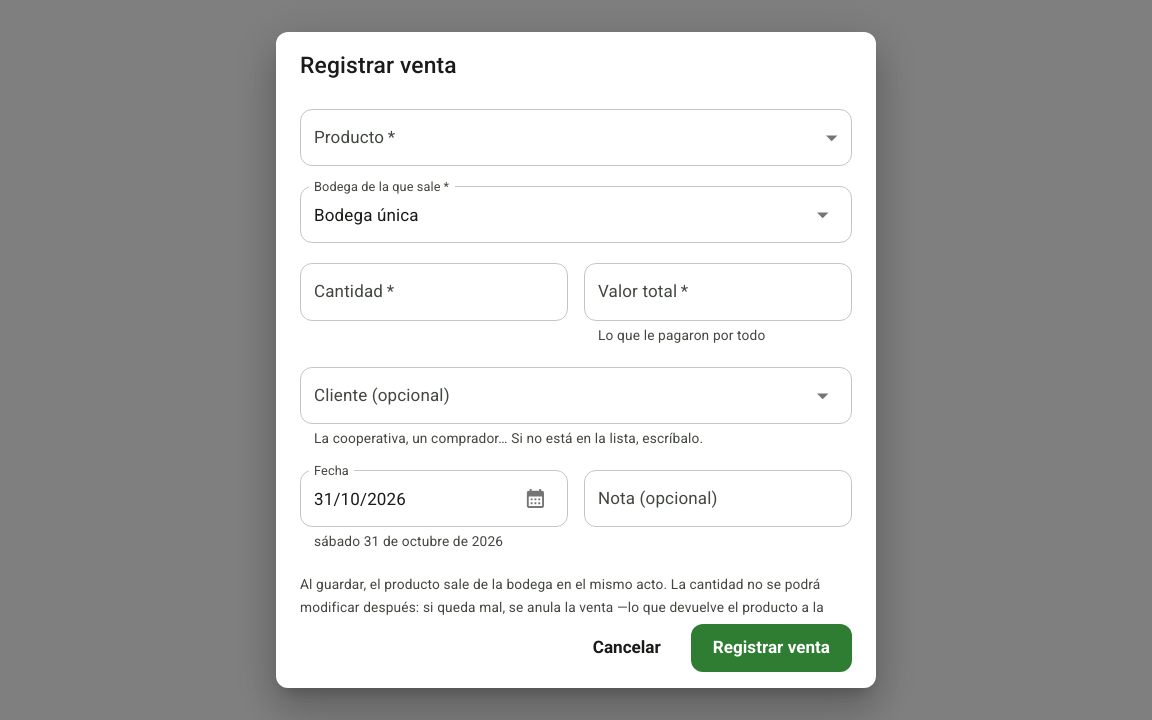
Test: SaleFormDialog, signed out, one warehouse, nothing on record › preselects the only warehouse and reads a missing stock line as zero
This screenshot has width=1152, height=720.
Expected: the dropdown showing "Bodega única" is shown, [309,195,787,234]
Click the dropdown named "Producto": coordinates (576, 137) [300,109,852,166]
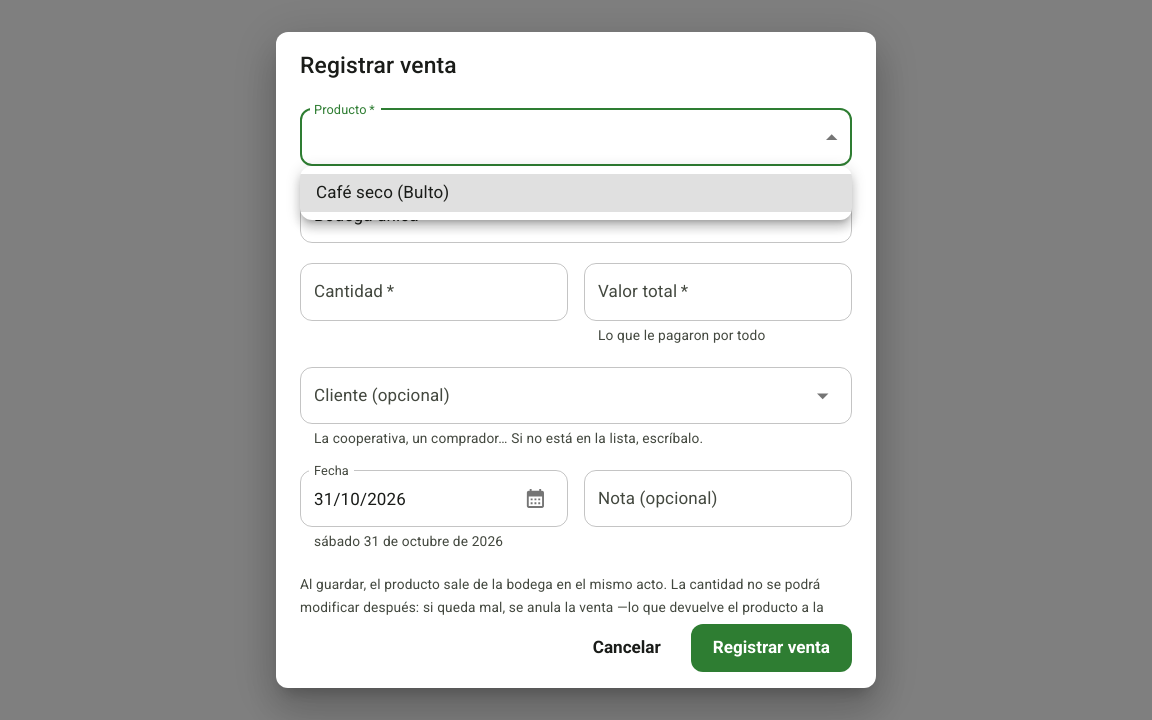
Click the option "Café seco (Bulto)": coordinates (354, 192) [300,174,852,212]
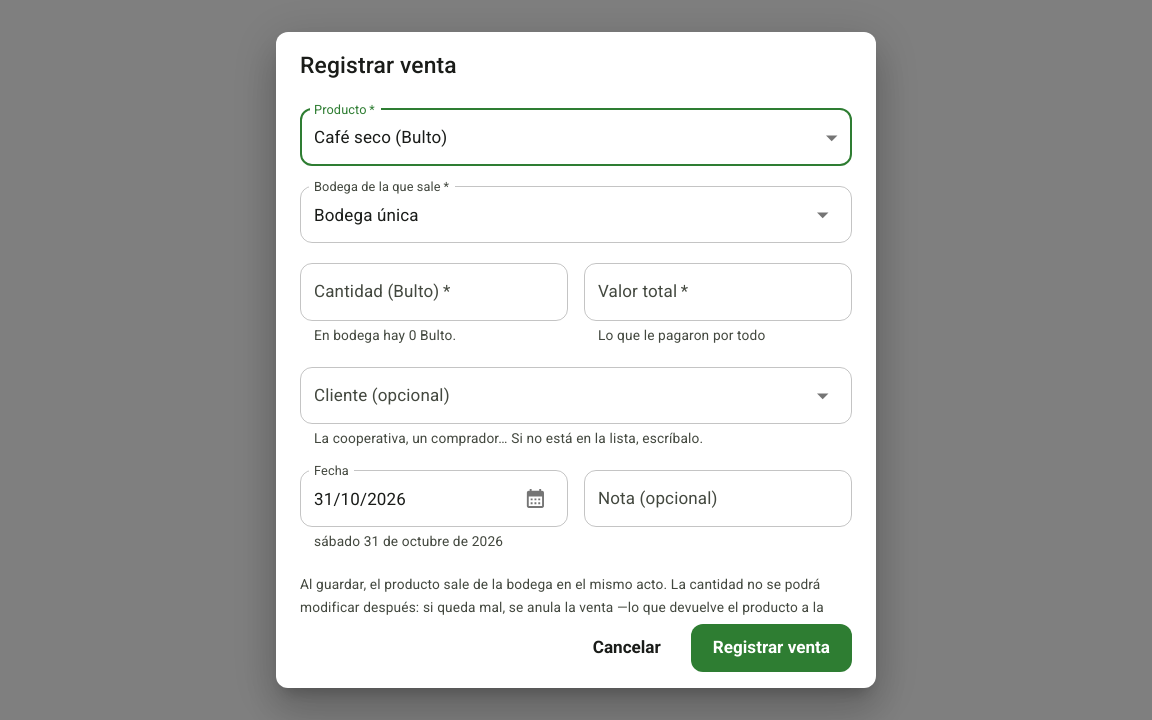
Expected: the text "En bodega hay 0 Bulto." is shown, [314,327,456,343]
In the field labelled "Cantidad (Bulto) *": coordinates (434, 292) [300,263,568,321], type "5"
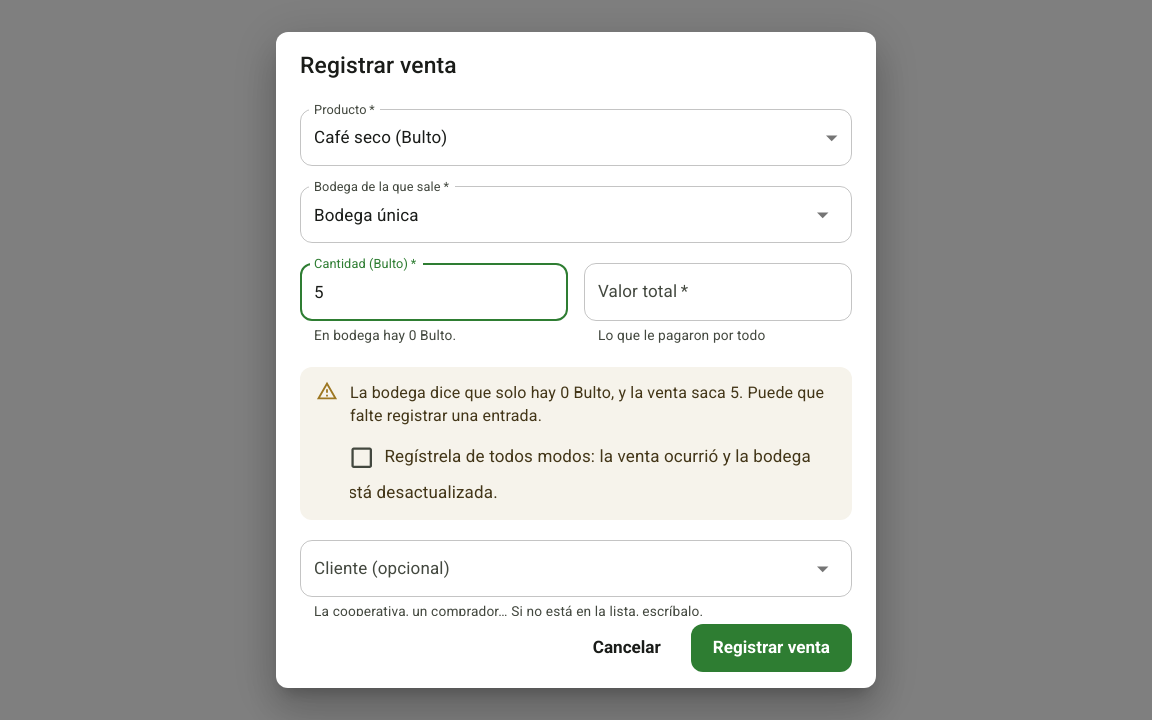
Expected: the text "La bodega dice que solo hay" shows "0 Bulto", [560,383,611,402]
